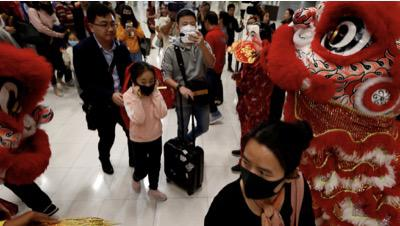with_mask: (238, 153, 283, 200), (136, 74, 157, 98), (179, 20, 196, 41), (244, 30, 259, 53), (67, 38, 78, 47), (246, 21, 255, 32), (122, 10, 131, 20)
without_mask: (93, 17, 118, 40), (160, 6, 167, 16), (283, 11, 290, 19), (262, 14, 269, 22), (226, 8, 234, 15), (150, 1, 155, 7)
